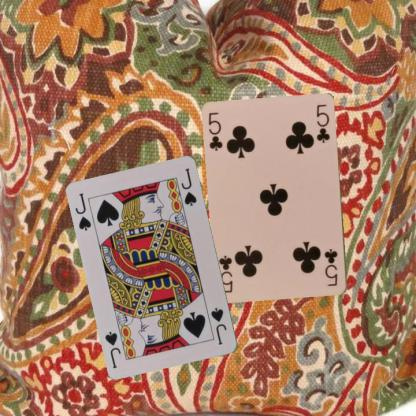5c: (206, 110, 224, 152), (322, 246, 339, 288)
Js: (73, 191, 93, 232), (209, 305, 228, 346)
